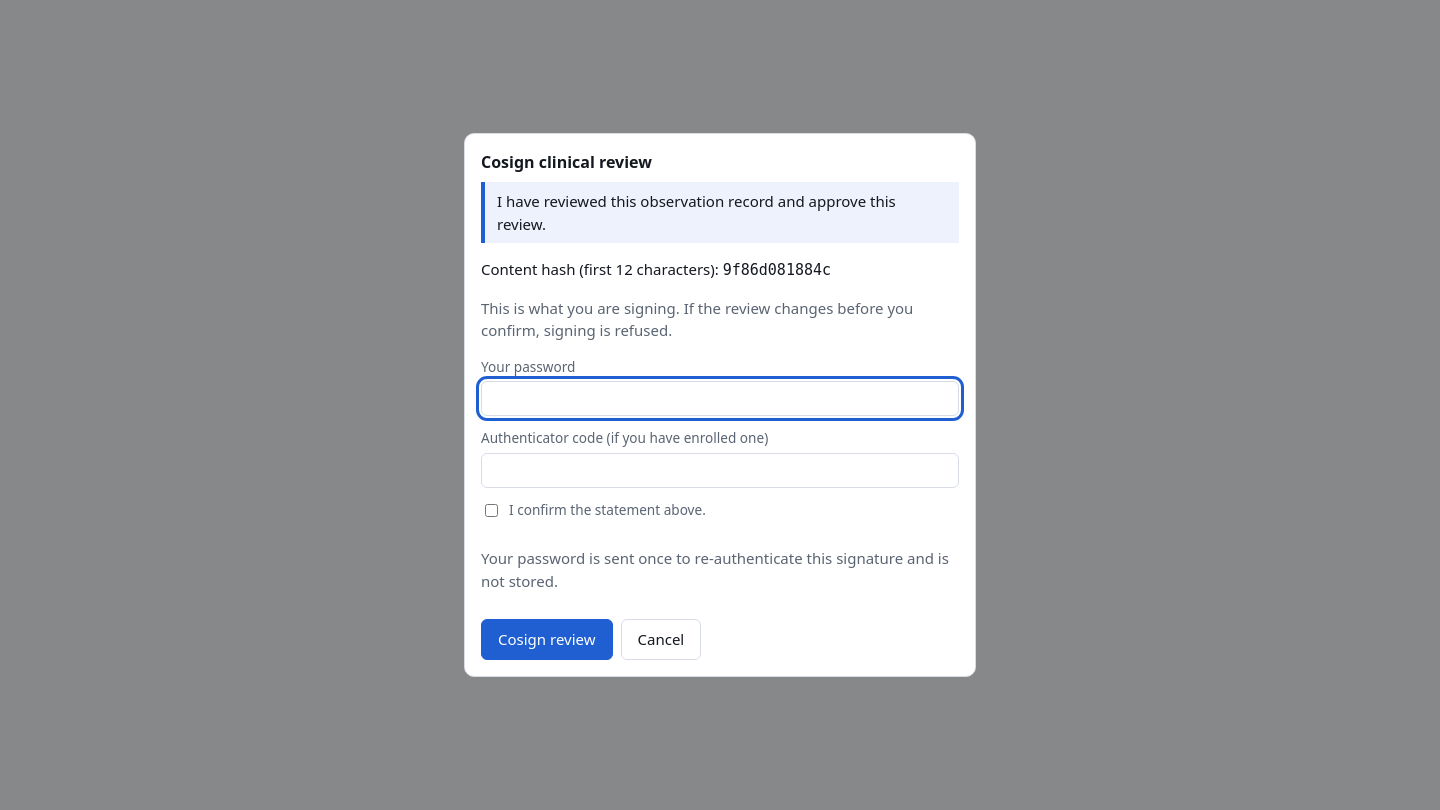
it: CosignDialog › is the same step-up with cosign wording and surfaces cosigner-must-differ
Expected: the dialog "Cosign clinical review" is shown, [464,133,976,677]
Type "pw" into the password field labelled "Your password" at (720, 399), box [481,381,959,416]
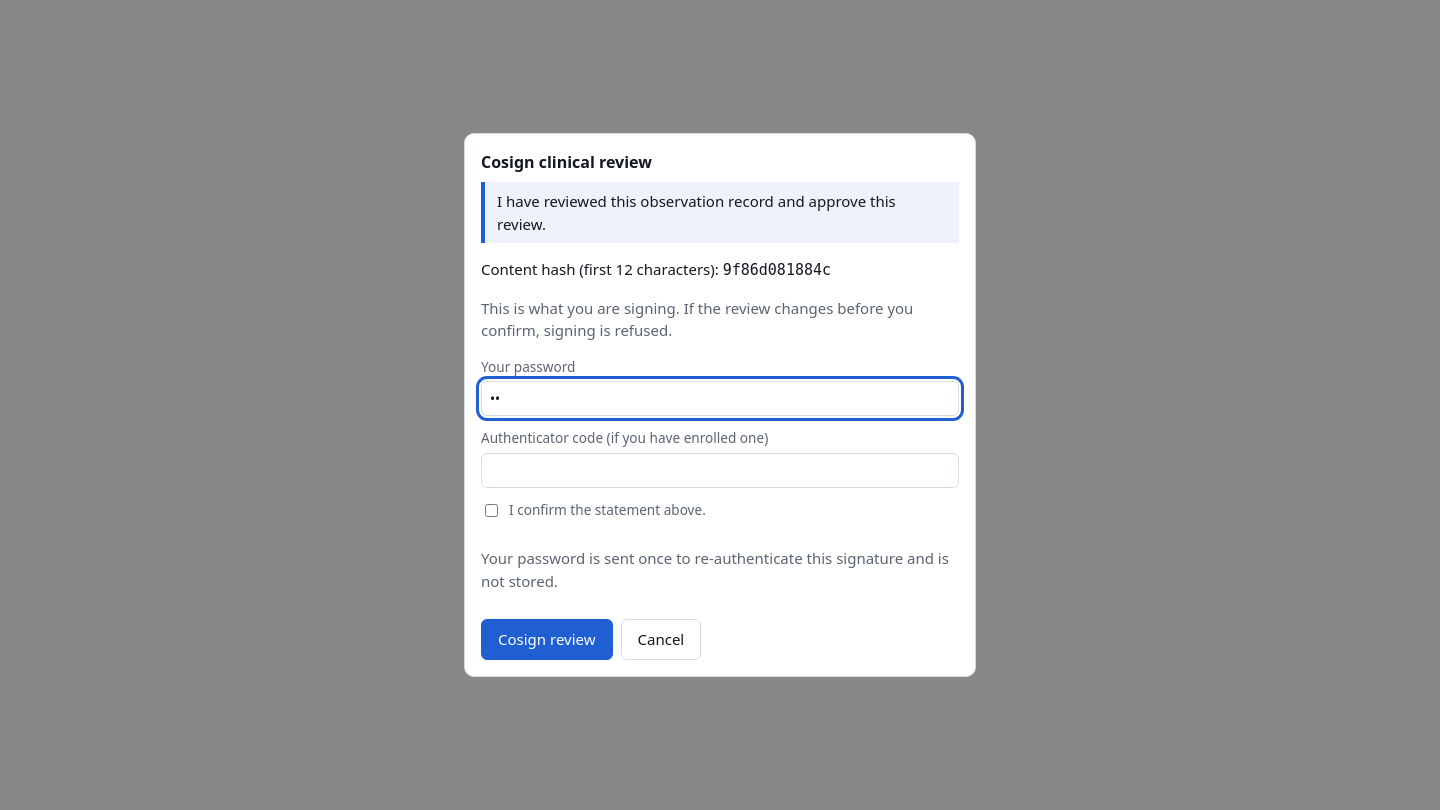
Click the checkbox labelled "I confirm the statement above." at (492, 510), box [485,504,498,516]
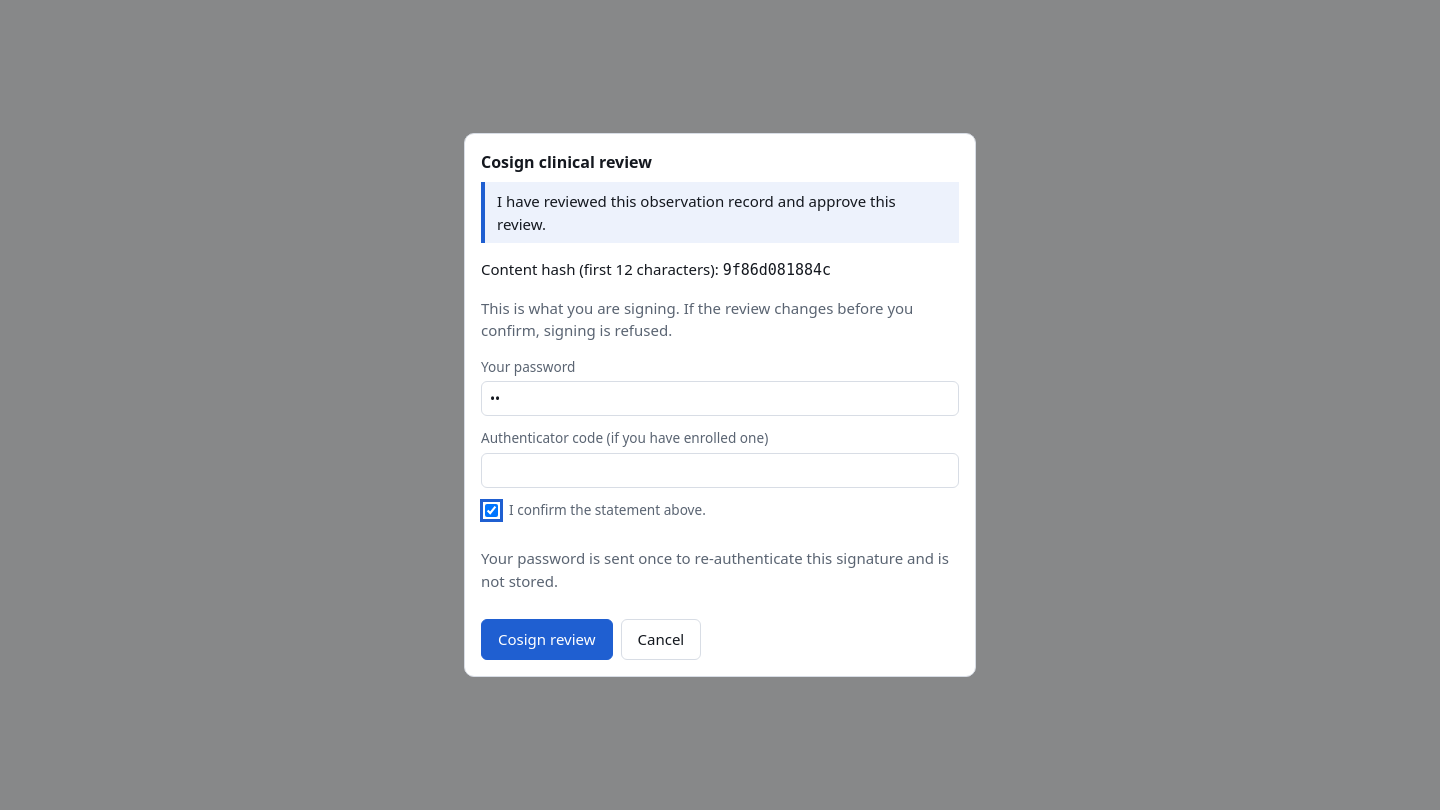
Click the button "Cosign review" at (547, 640), box [481,619,612,660]
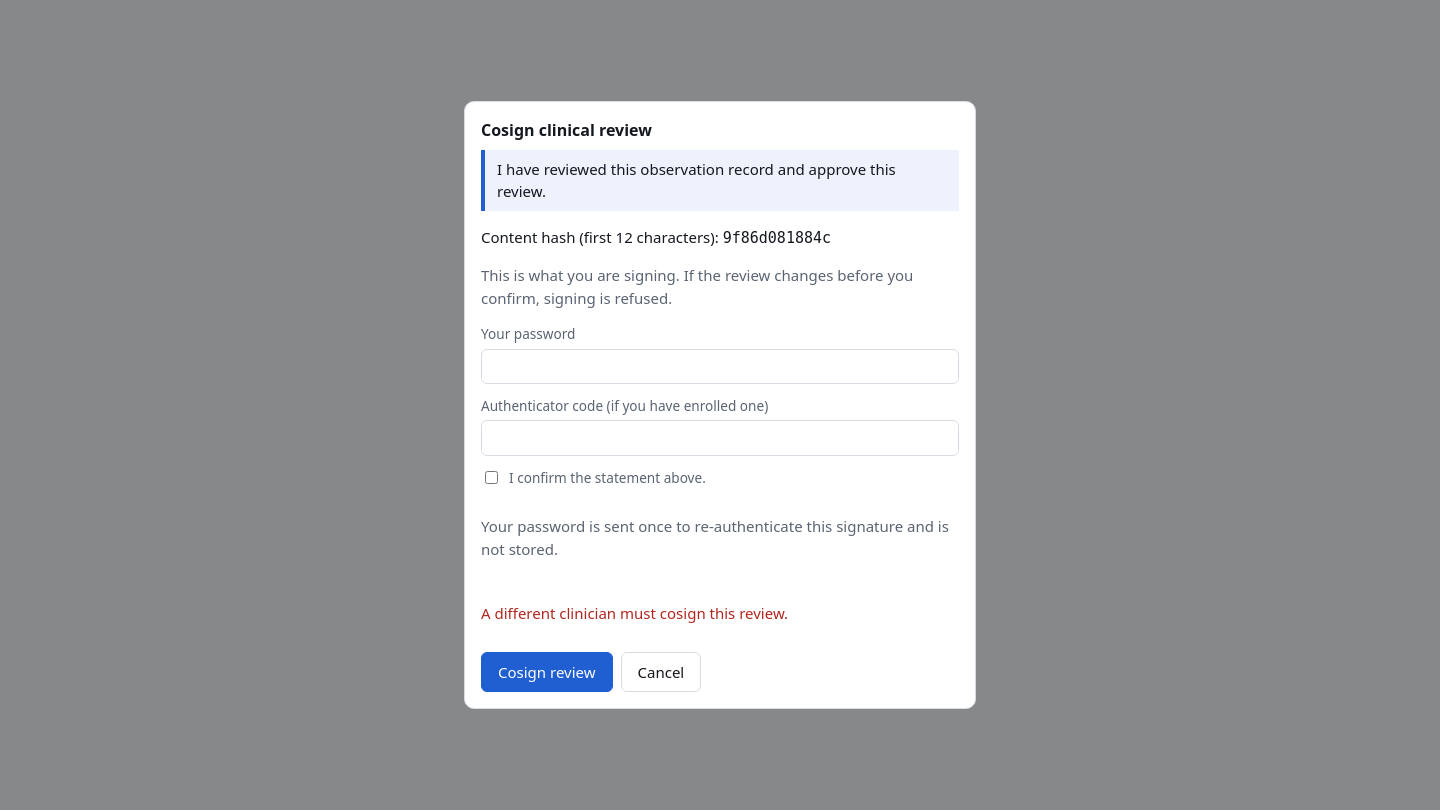
Expected: the message shows "A different clinician must cosign", [481,603,788,623]
